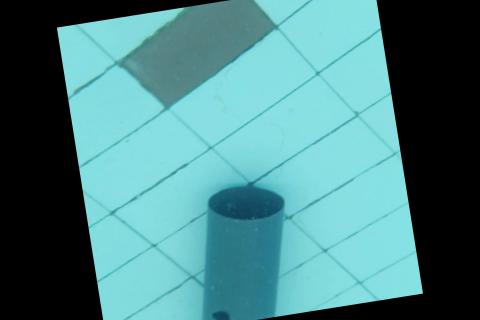kebocoran: (211, 308, 233, 320)
